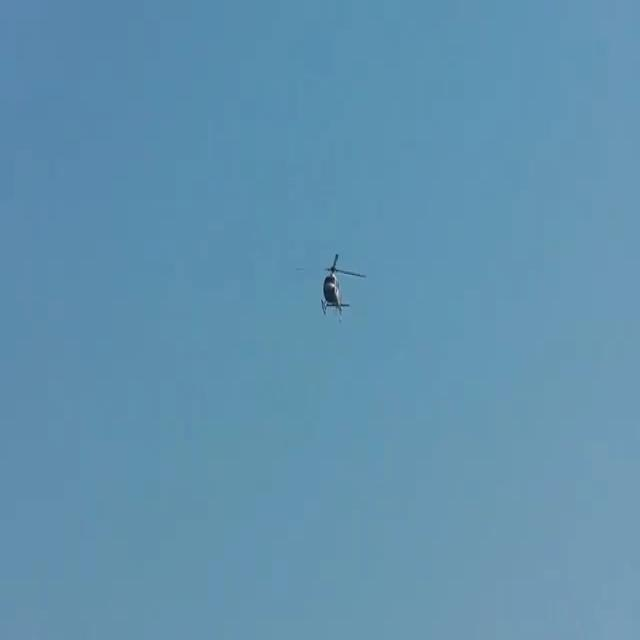Helicopter: (294, 247, 370, 334)
